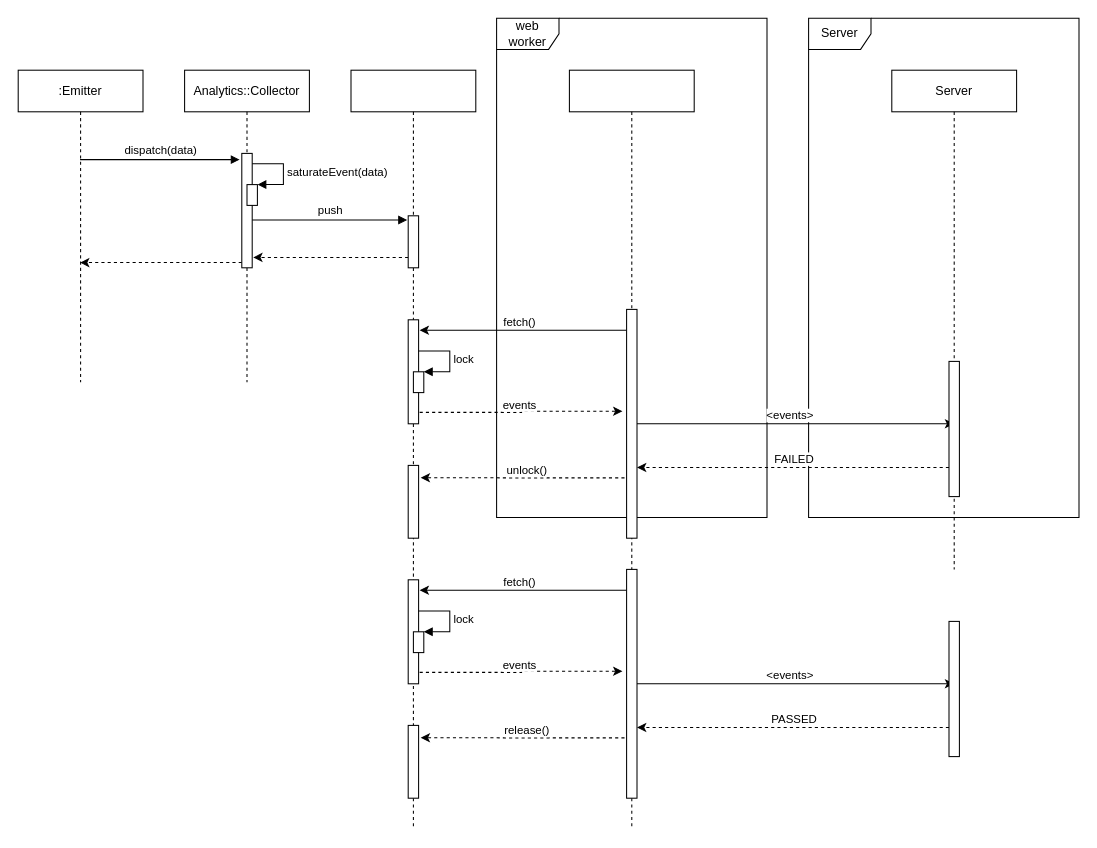
The diagram is 1097 pixels wide and 848 high, and some of its shapes have lost their labels. Here are the shapes that lost their labels. From the top down, the box of each, then its label:
(350, 69, 476, 829): Analytics::Storage
(568, 69, 694, 829): Analytics::T ransmitter
